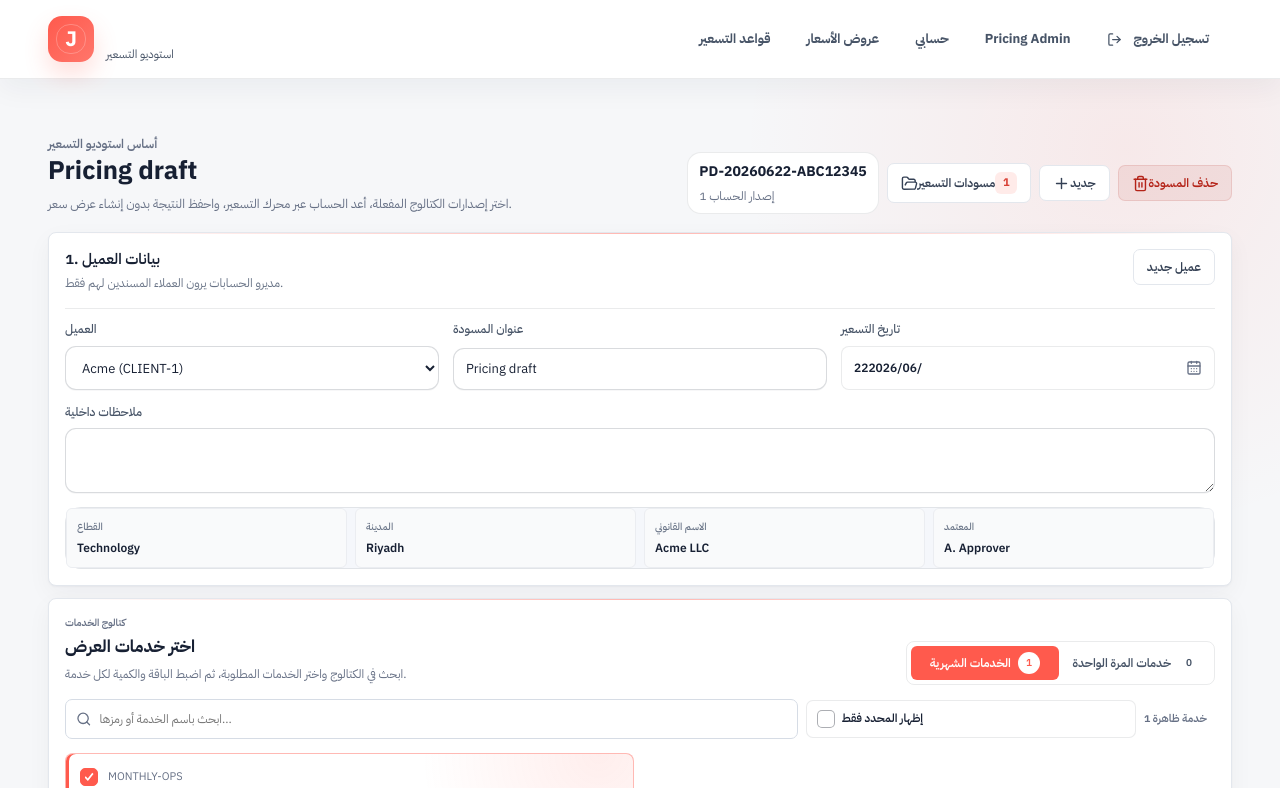
Scenario: PR 6 pricing UI › opens saved drafts in a focused dialog and exposes an Arabic date preview
Expected: the text "22 /06 /2026" is shown, [854,360,922,376]
Click the button "مسودات التسعير 1": (959, 183) [887,163,1031,203]
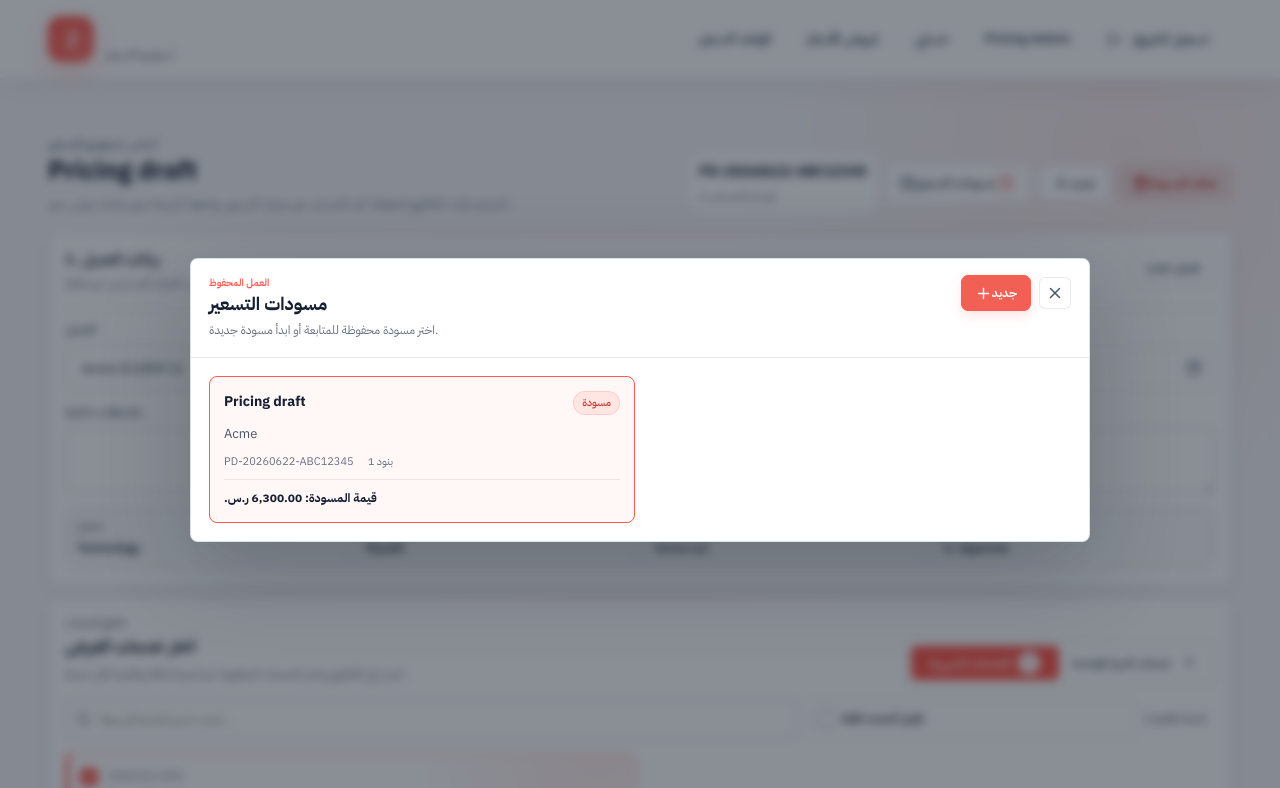
Expected: the text "Pricing draft" is shown, [224,391,306,412]
Expected: the text "PD-20260622-ABC12345" is shown, [224,453,354,470]
Click the button "جديد": (996, 293) [961,275,1031,311]
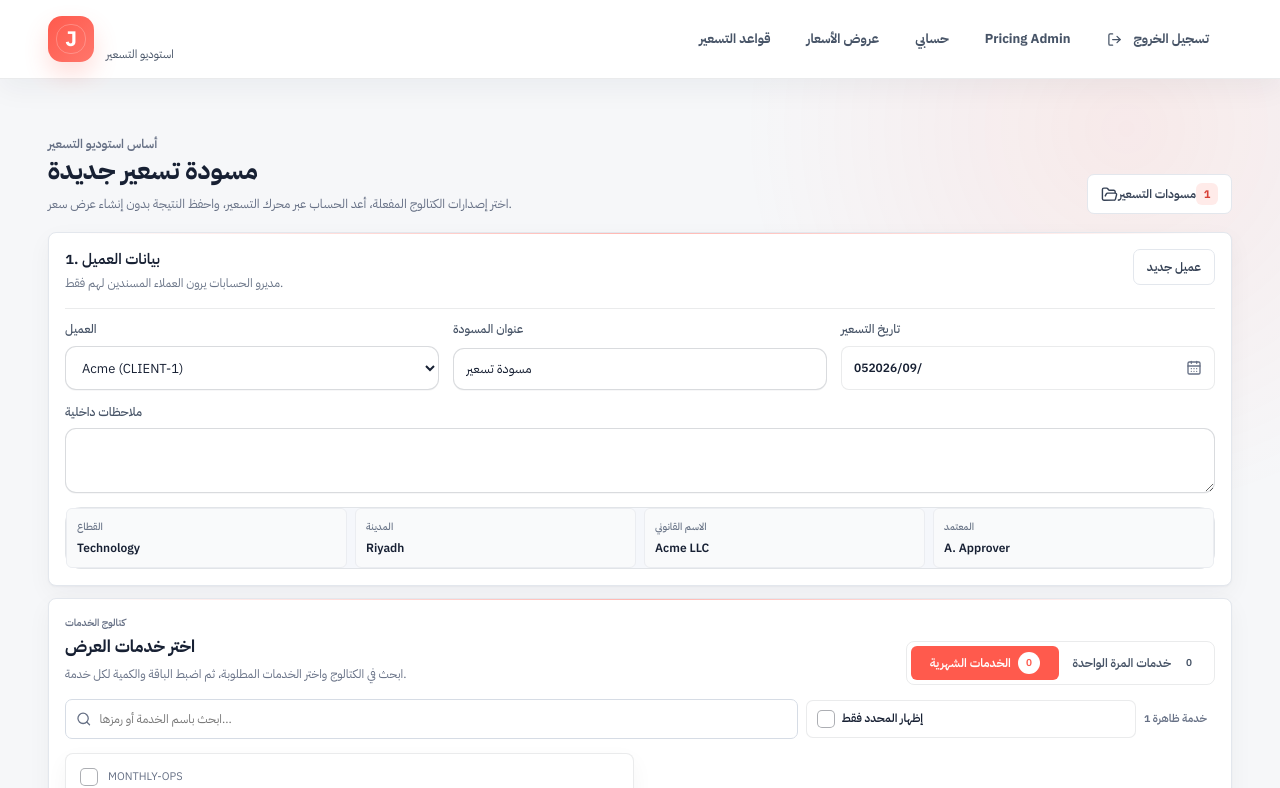
Expected: the heading "مسودة تسعير جديدة" is shown, [48,151,258,190]
